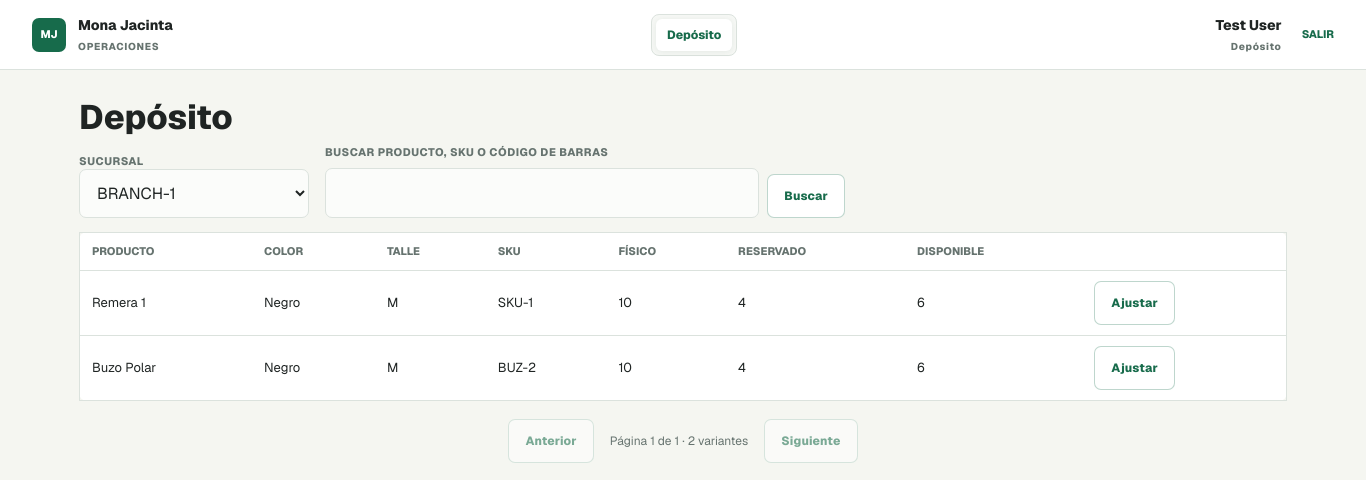
it: Depósito (WAREHOUSE-MVP) › stock list › W08 searches by submitting the term and resets to page 1
Expected: the text "Remera 1" is shown, 80,270 -> 252,335
Type "buzo" into the search field labelled "Buscar producto, SKU o código de barras" at (542, 193), box 325,168 -> 759,218
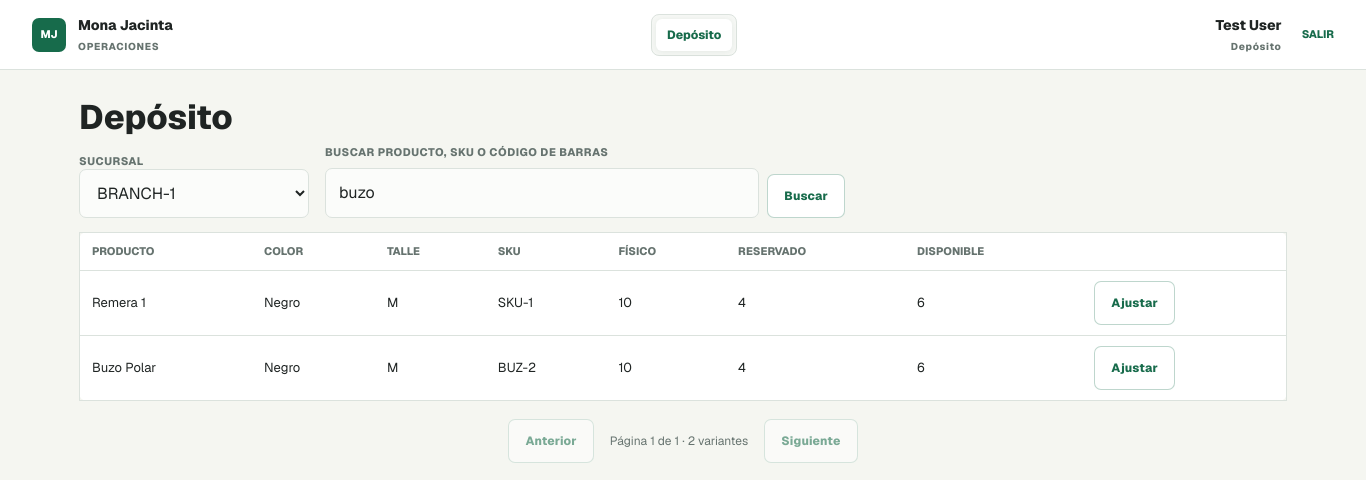
Click the button "Buscar" at (806, 196), box 767,174 -> 845,218
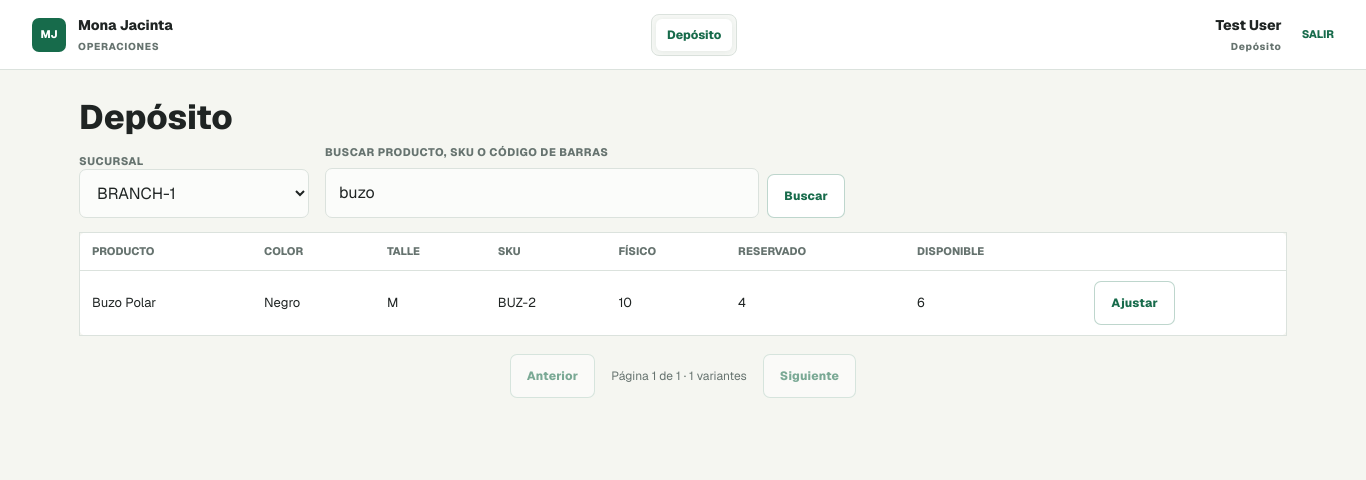
Expected: the text "Buzo Polar" is shown, 80,270 -> 252,335
Result: the text "Remera 1" is gone
